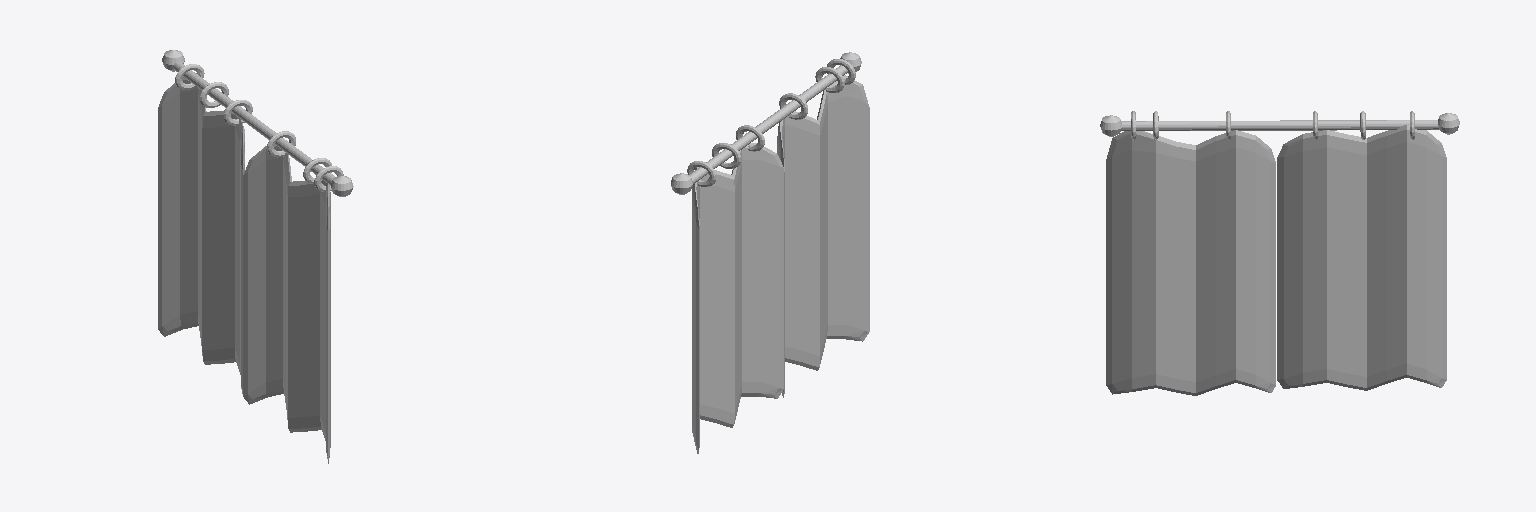
Rendered from curtain model.obj.
3 renders of one model, left to right at view 1: azimuth 30°, elevation 25°; view 2: azimuth 150°, elevation 25°; view 3: azimuth 270°, elevation 25°, orthographic.
Parts seen in each view (by area): view 1: pCylinder1 polySurface31, polySurface30 pCylinder1, polySurface21, polySurface24, polySurface25; view 2: polySurface30 pCylinder1, pCylinder1 polySurface31, polySurface21, polySurface24, polySurface25; view 3: pCylinder1 polySurface31, polySurface30 pCylinder1, polySurface21.
Boxes of the visible parts, x1=… form: pCylinder1 polySurface31: x1=243, y1=145, x2=330, y2=463; polySurface30 pCylinder1: x1=158, y1=73, x2=244, y2=393; polySurface21: x1=162, y1=50, x2=353, y2=196; polySurface24: x1=175, y1=64, x2=252, y2=125; polySurface25: x1=267, y1=131, x2=343, y2=191; polySurface30 pCylinder1: x1=692, y1=143, x2=783, y2=453; pCylinder1 polySurface31: x1=777, y1=75, x2=869, y2=397; polySurface21: x1=671, y1=52, x2=861, y2=194; polySurface24: x1=687, y1=125, x2=764, y2=186; polySurface25: x1=779, y1=59, x2=855, y2=119; pCylinder1 polySurface31: x1=1106, y1=130, x2=1275, y2=395; polySurface30 pCylinder1: x1=1277, y1=125, x2=1446, y2=390; polySurface21: x1=1100, y1=113, x2=1459, y2=136.
Size of the model in its own units: 3.51 by 33.28 by 37.7.